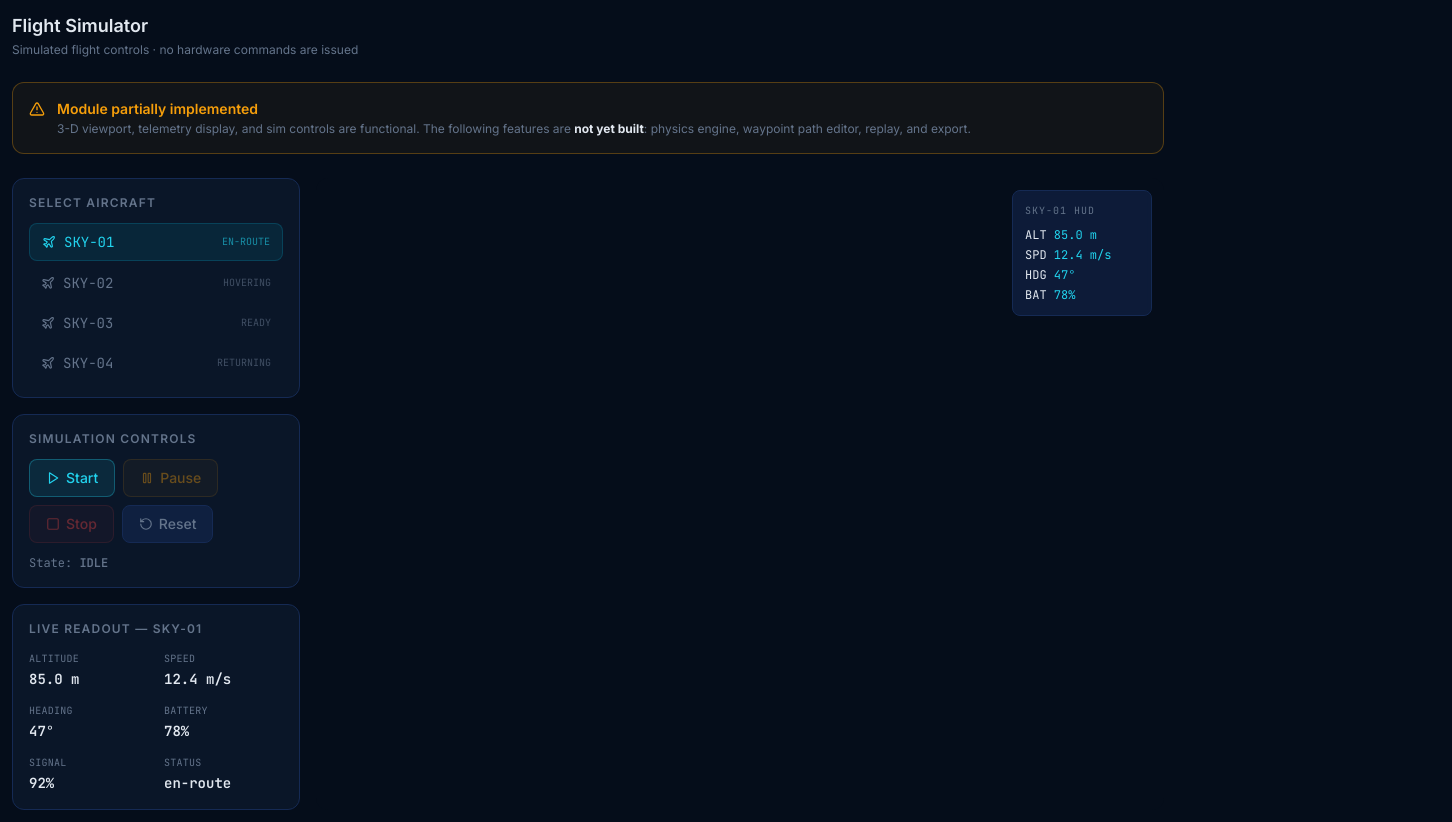
FlightSimulatorPage › clicking Pause after Start shows Resume label and disables Pause
Click the button "Start" at {"x": 72, "y": 478}, box x1=29 y1=459 x2=115 y2=497
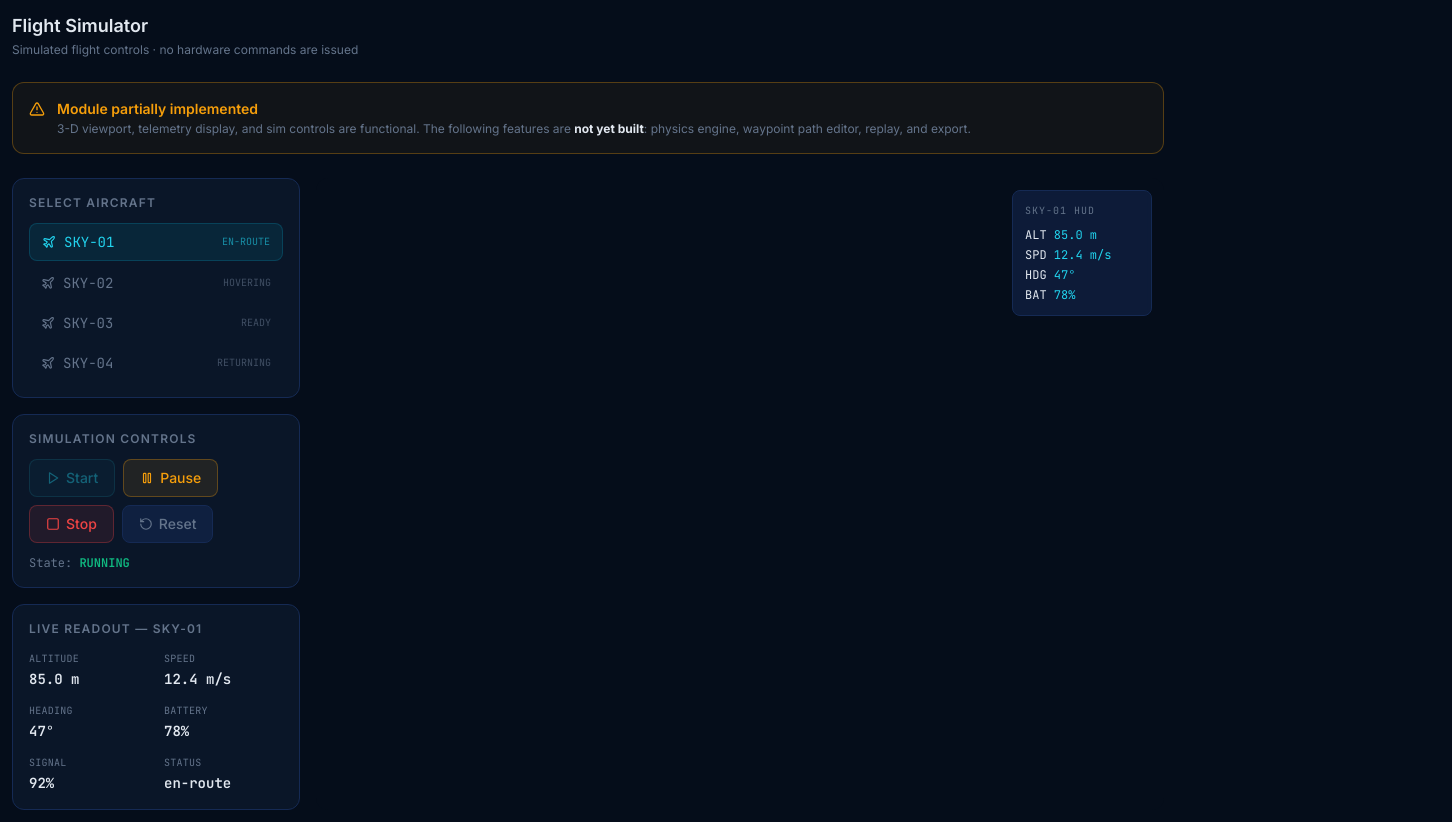
Click the button "Pause" at {"x": 171, "y": 478}, box x1=123 y1=459 x2=218 y2=497
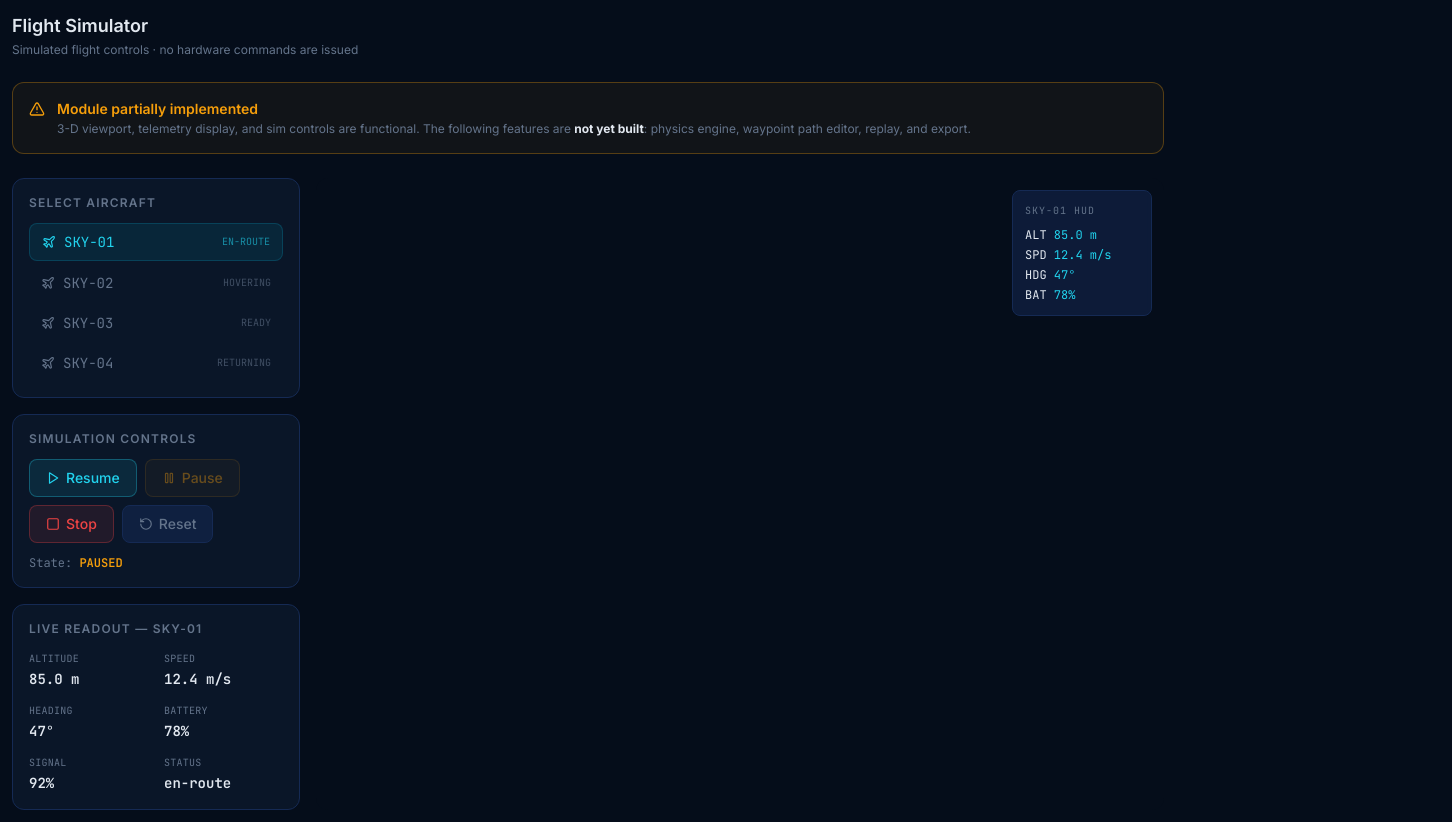
Result: the button "Resume" is shown at x1=29 y1=459 x2=137 y2=497
Result: the button "Pause" is disabled at x1=145 y1=459 x2=240 y2=497
